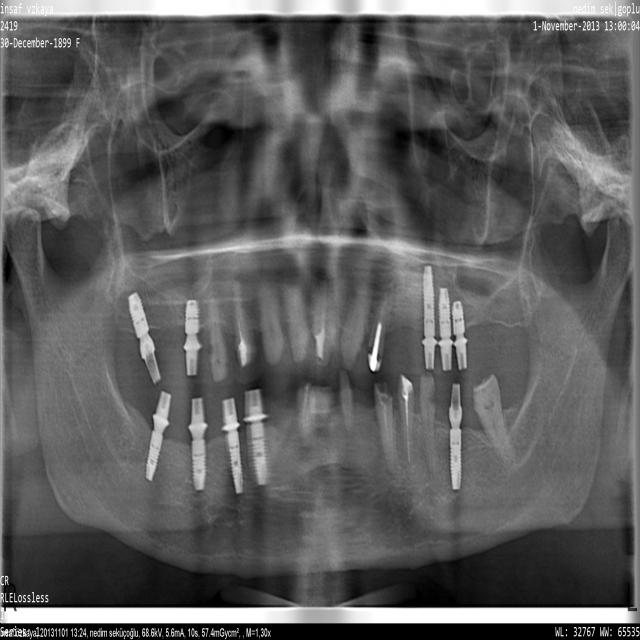Canine: (374, 382, 400, 482), (367, 283, 393, 374), (234, 279, 257, 369)
Incisores: (340, 279, 372, 371), (280, 279, 309, 365), (259, 277, 283, 366), (313, 280, 336, 367), (339, 370, 354, 436)
Premolars: (243, 390, 268, 486), (221, 398, 243, 495), (420, 373, 439, 475), (397, 373, 416, 474), (209, 294, 228, 383)
molars: (474, 374, 515, 468), (128, 292, 161, 386), (145, 388, 172, 483), (188, 396, 208, 493), (421, 265, 438, 371), (448, 382, 463, 491), (183, 299, 202, 377), (437, 287, 453, 372), (452, 301, 468, 371)
